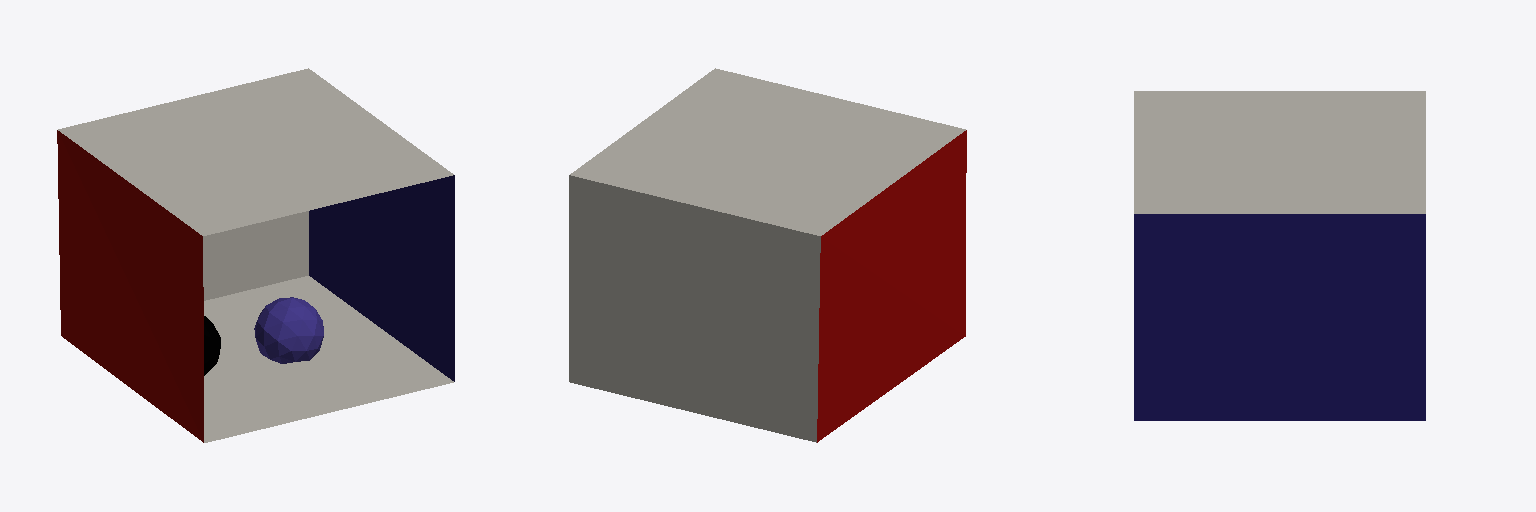
File: CornellBox-Sphere-1292.obj
The picture shows the model from 3 angles: view 1: azimuth 30°, elevation 25°; view 2: azimuth 150°, elevation 25°; view 3: azimuth 270°, elevation 25°; orthographic projection.
Visible parts, largest first — view 1: ceiling, leftWall, floor, rightWall, backWall, leftSphere, rightSphere; view 2: backWall, ceiling, leftWall; view 3: rightWall, ceiling.
Part boxes in pixels (left/top/right/bottom): ceiling: left=58, top=68, right=453, bottom=235; leftWall: left=57, top=130, right=203, bottom=442; floor: left=204, top=276, right=453, bottom=442; rightWall: left=309, top=175, right=454, bottom=381; backWall: left=203, top=211, right=308, bottom=300; leftSphere: left=254, top=297, right=323, bottom=363; rightSphere: left=204, top=316, right=220, bottom=375; backWall: left=569, top=175, right=820, bottom=442; ceiling: left=570, top=68, right=965, bottom=235; leftWall: left=817, top=130, right=966, bottom=442; rightWall: left=1134, top=214, right=1425, bottom=420; ceiling: left=1134, top=91, right=1425, bottom=213.
Size of the model in its own units: 2.02 by 1.59 by 2.03.